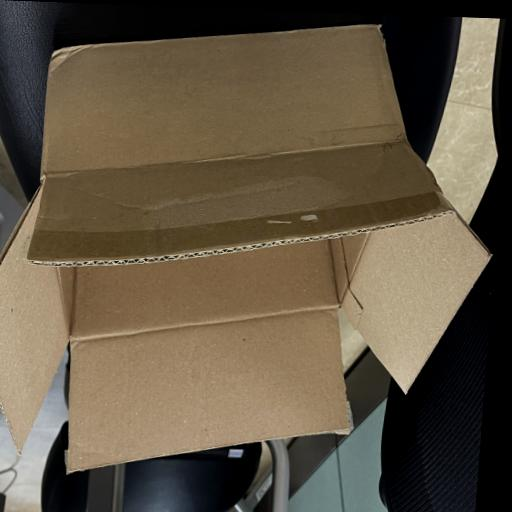opened: (1, 24, 494, 474), (1, 140, 494, 474)
